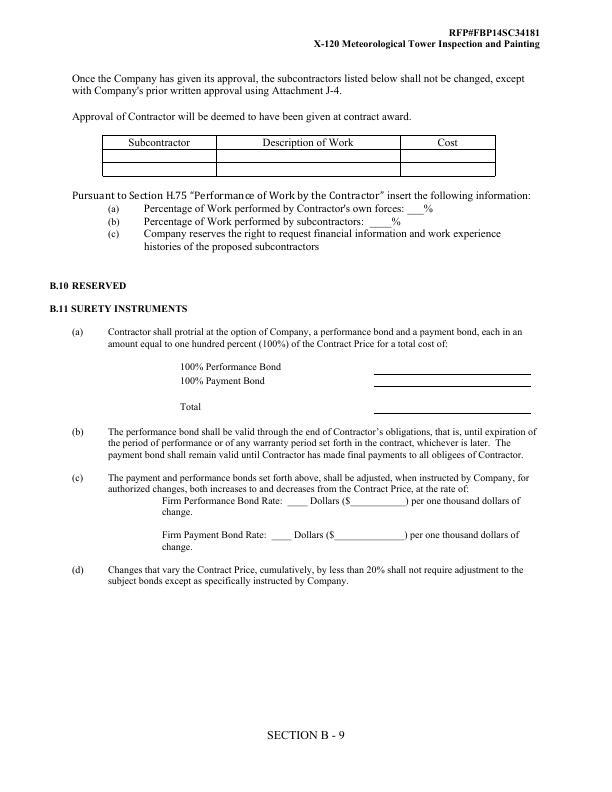input: (372, 361, 534, 377), (371, 402, 532, 416), (371, 378, 534, 391), (324, 529, 409, 543), (340, 495, 410, 509), (366, 216, 391, 229), (269, 532, 294, 544), (403, 203, 422, 217), (287, 498, 310, 508)
table: (95, 130, 502, 182)
text: (69, 426, 544, 462), (68, 71, 533, 98), (68, 325, 526, 350), (72, 565, 528, 589), (69, 471, 535, 494), (312, 24, 546, 58), (68, 105, 415, 123), (71, 188, 534, 201), (104, 229, 508, 241), (106, 202, 404, 213), (107, 216, 364, 228), (142, 242, 326, 255), (408, 526, 526, 543), (411, 495, 526, 511), (48, 303, 190, 315), (176, 360, 286, 374), (158, 496, 284, 508), (160, 530, 266, 543), (173, 376, 276, 388), (263, 728, 349, 742), (49, 279, 127, 291), (155, 543, 199, 554), (295, 529, 325, 544), (177, 400, 206, 414), (159, 507, 192, 519), (311, 496, 340, 508), (424, 202, 440, 217), (390, 217, 404, 227)
